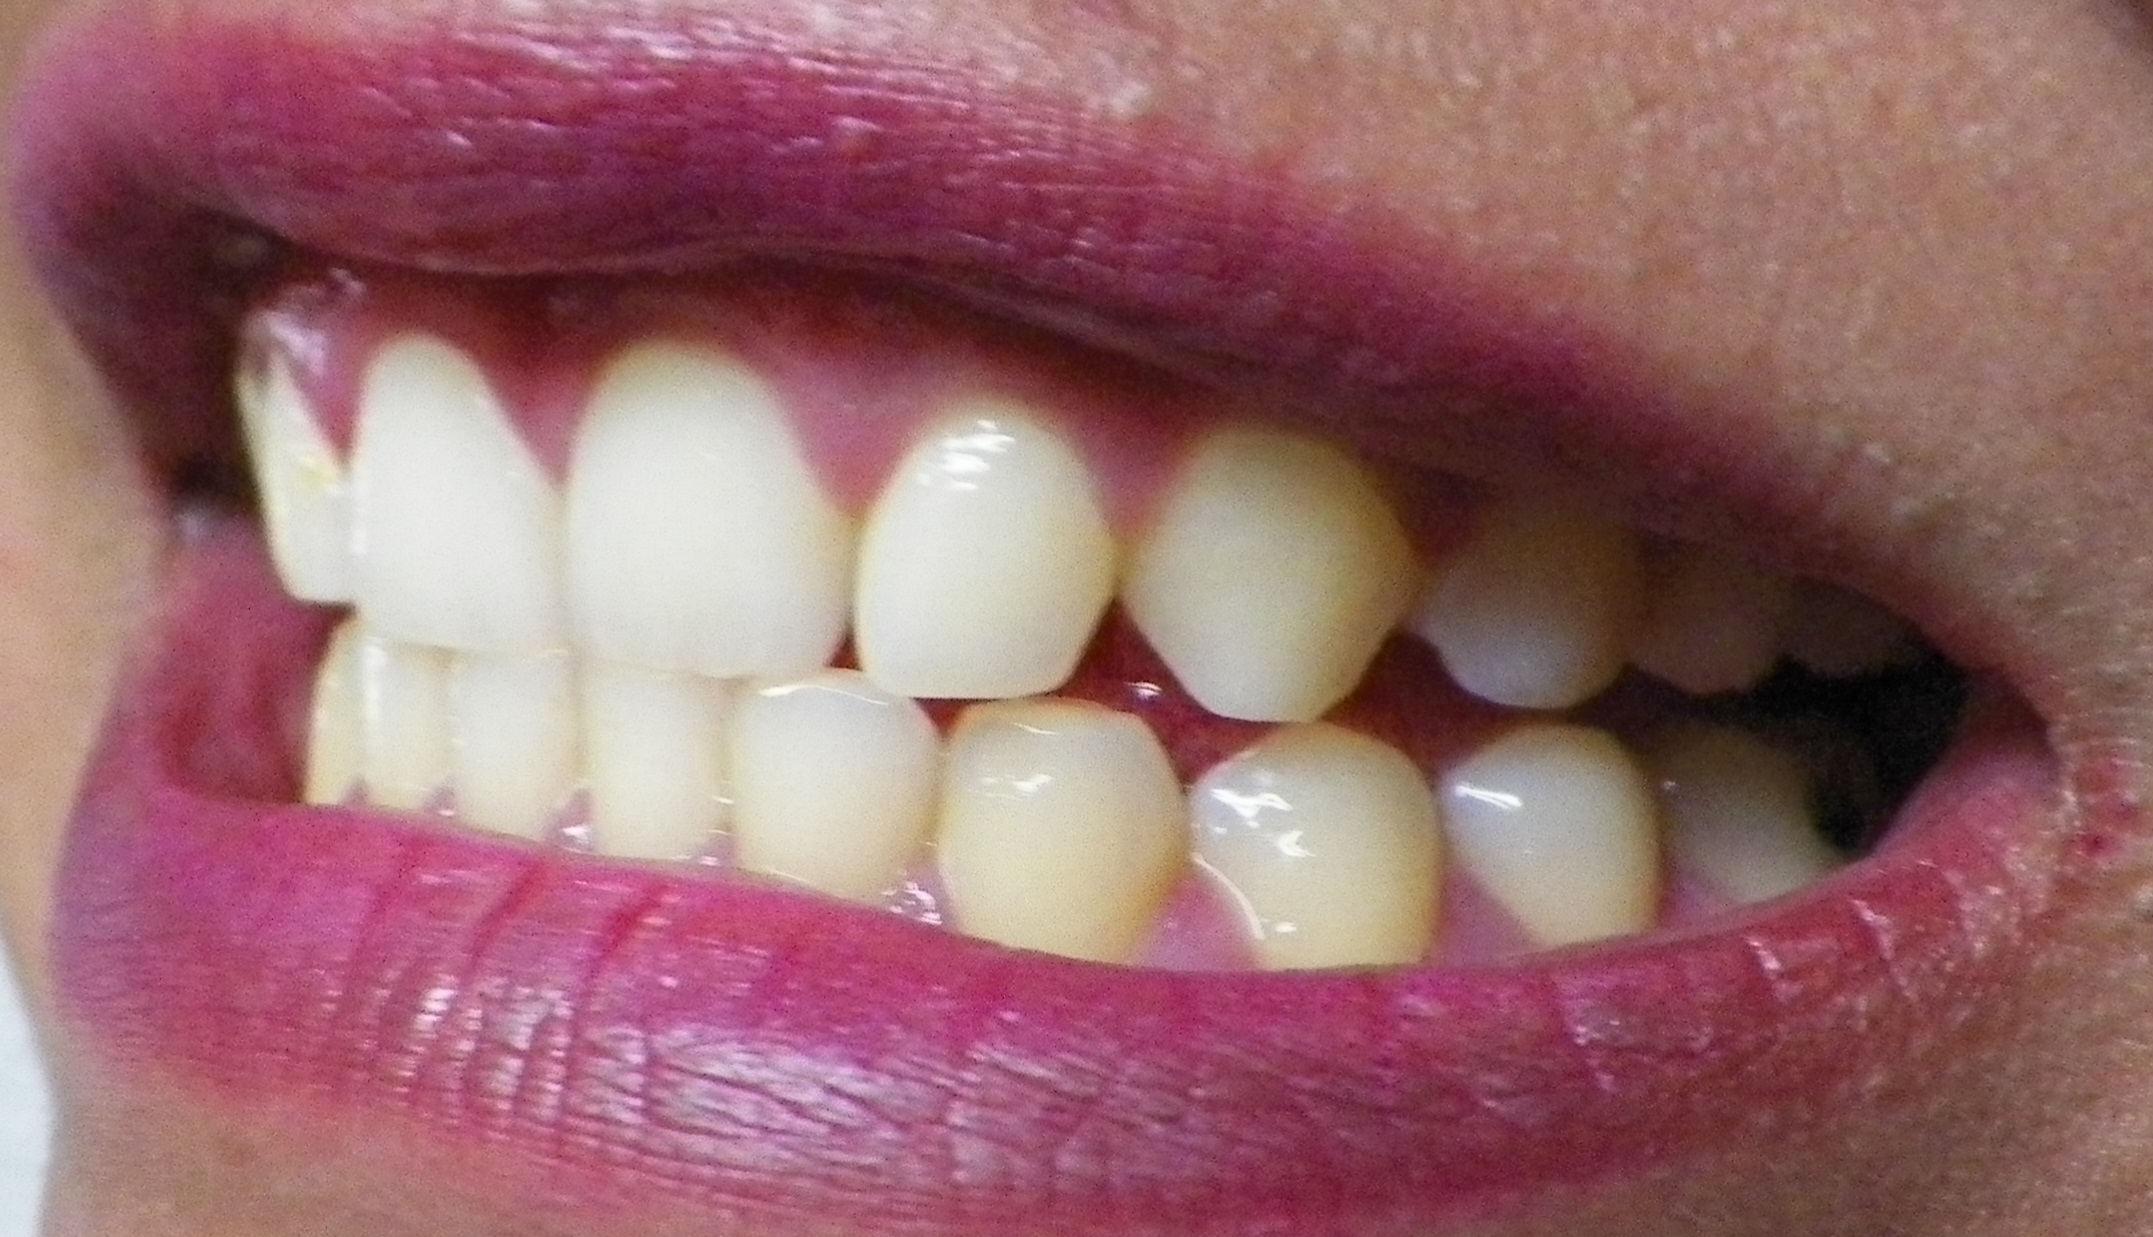boca: (194, 324, 1887, 918)
